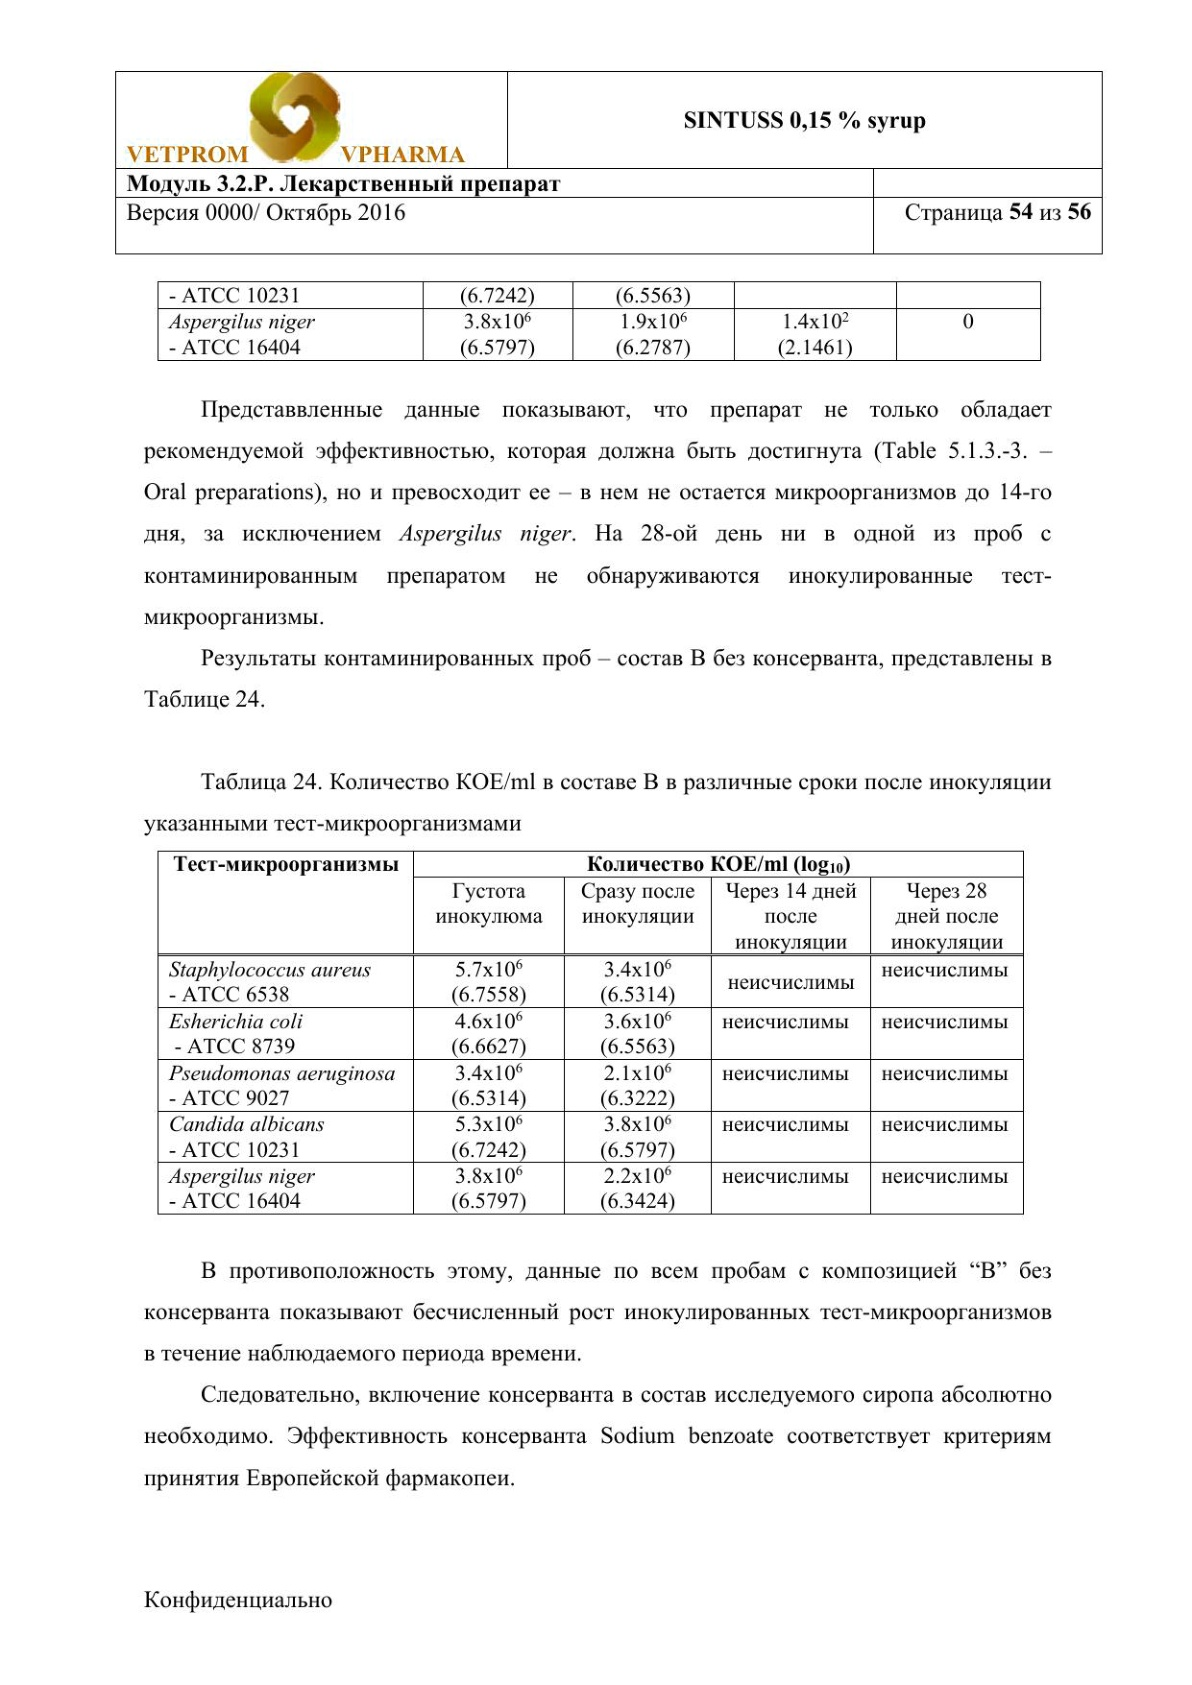full_lined: (156, 279, 1042, 363)
merged_cells: (156, 849, 1024, 1215), (114, 68, 1103, 255)
